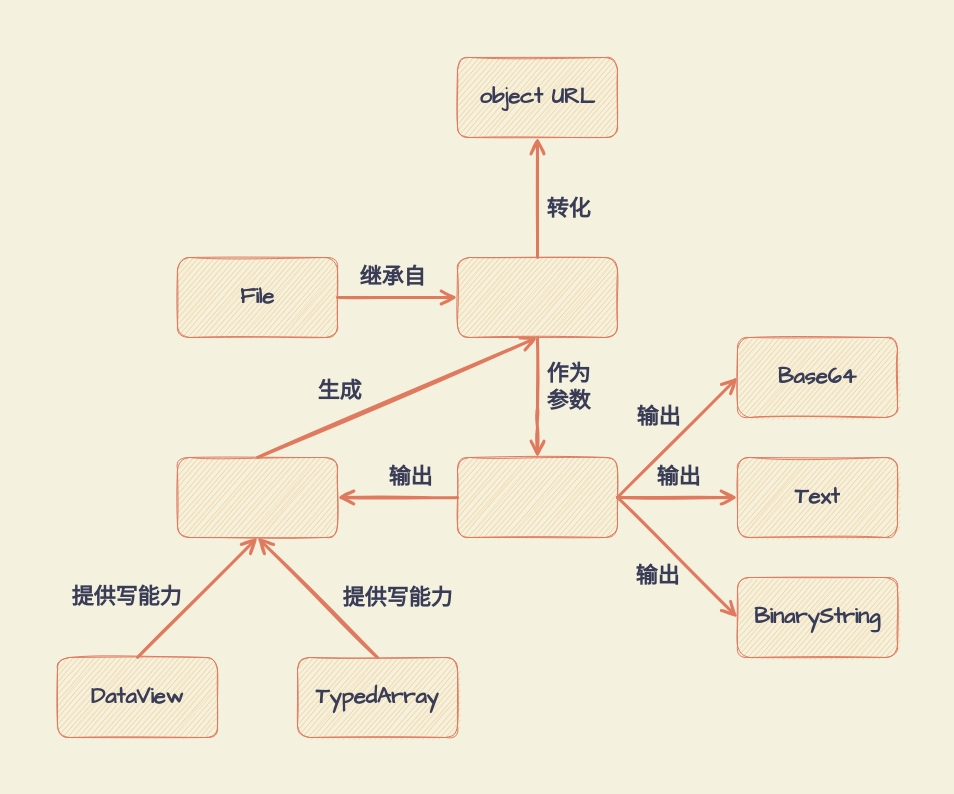
The diagram is 954 pixels wide and 794 high, and some of its shapes have lost their labels. The centre of each missing label's shape, as x and y in pixels:
"ArrayBuffer" goes at point (257, 497).
"Blob" goes at point (537, 297).
"FileReader" goes at point (537, 497).
